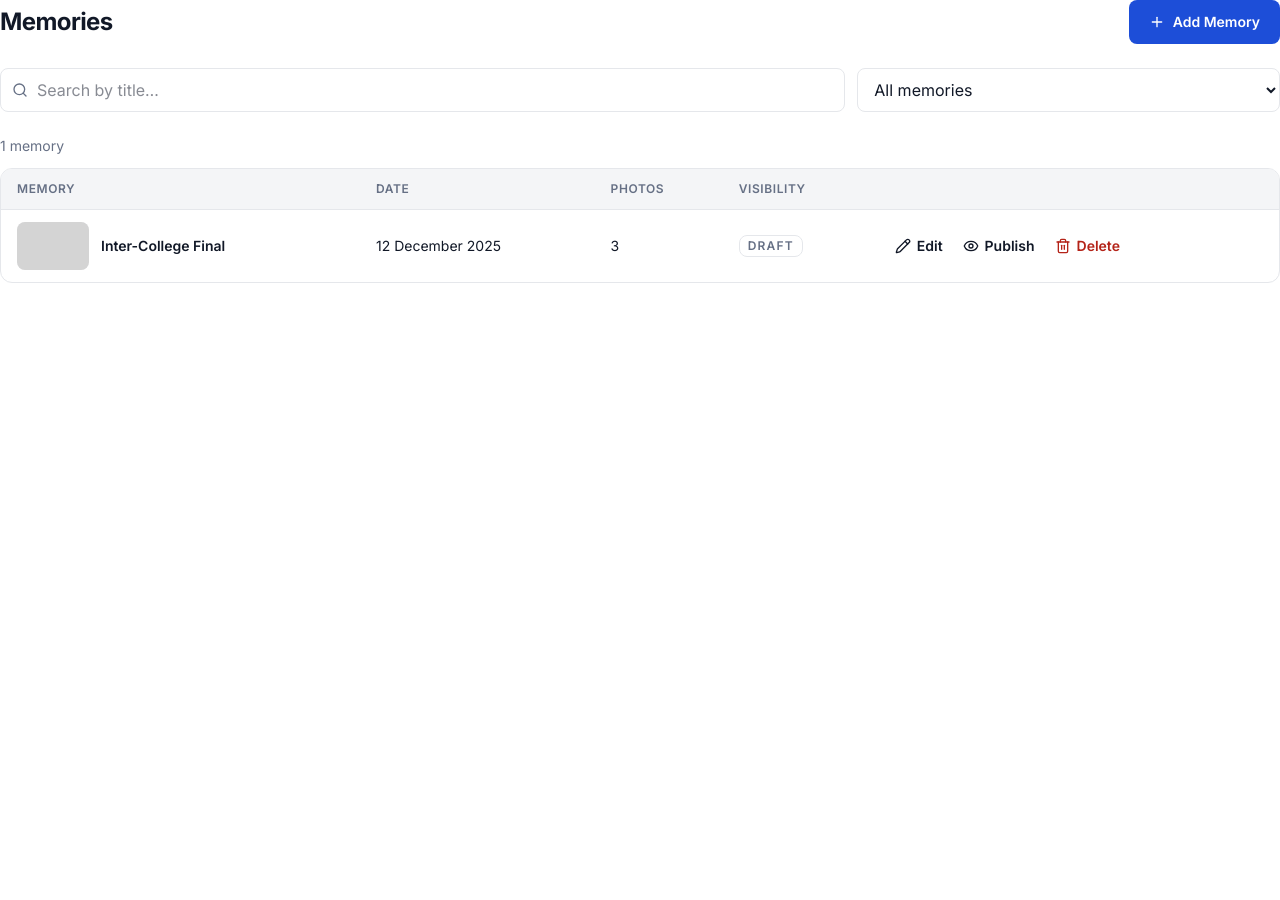
Test: AdminMemories › publishes a draft after confirmation
Click the button with aria-label "Publish Inter-College Final": (999, 246) [955, 224, 1042, 268]
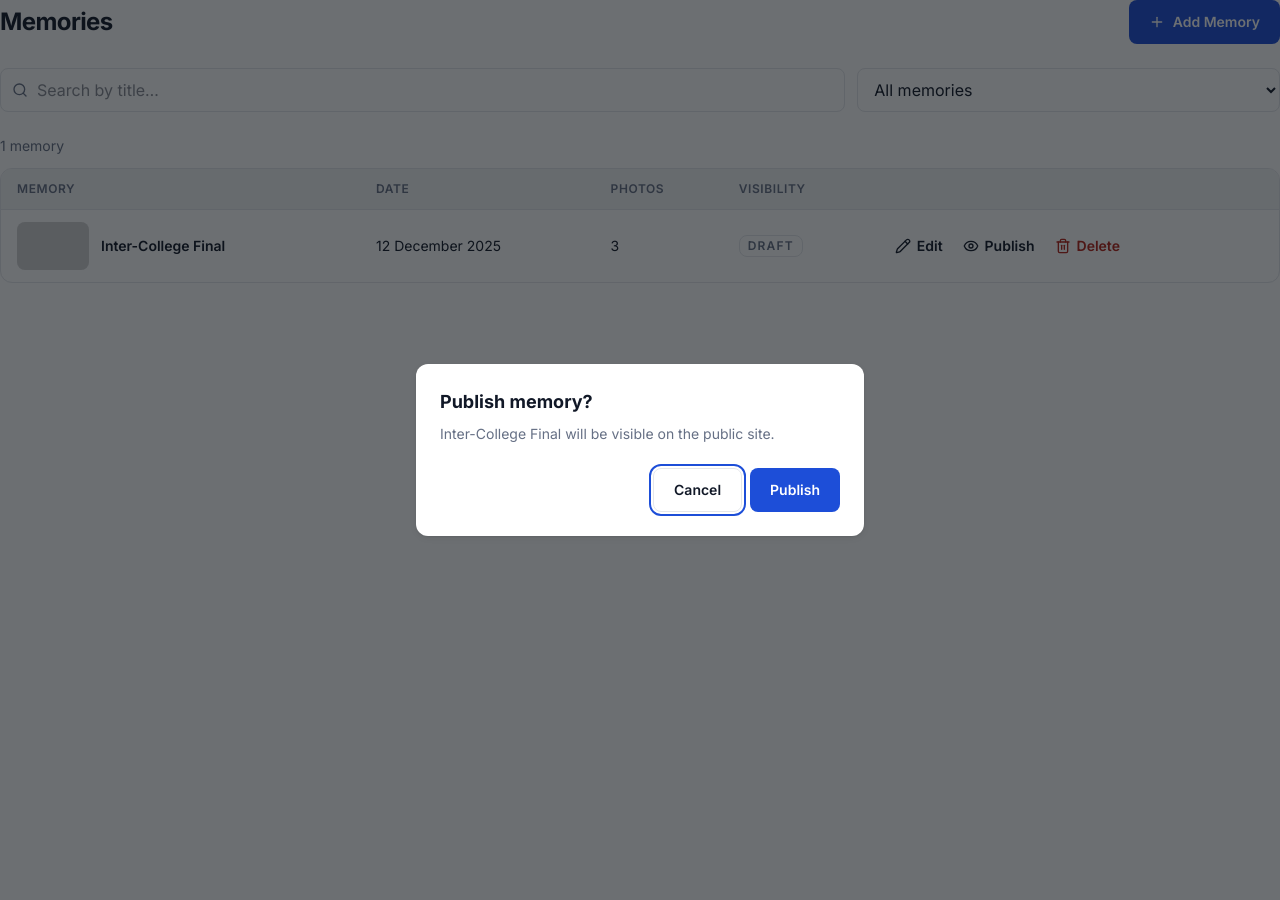
Click the button "Publish": (795, 490) [750, 468, 840, 512]
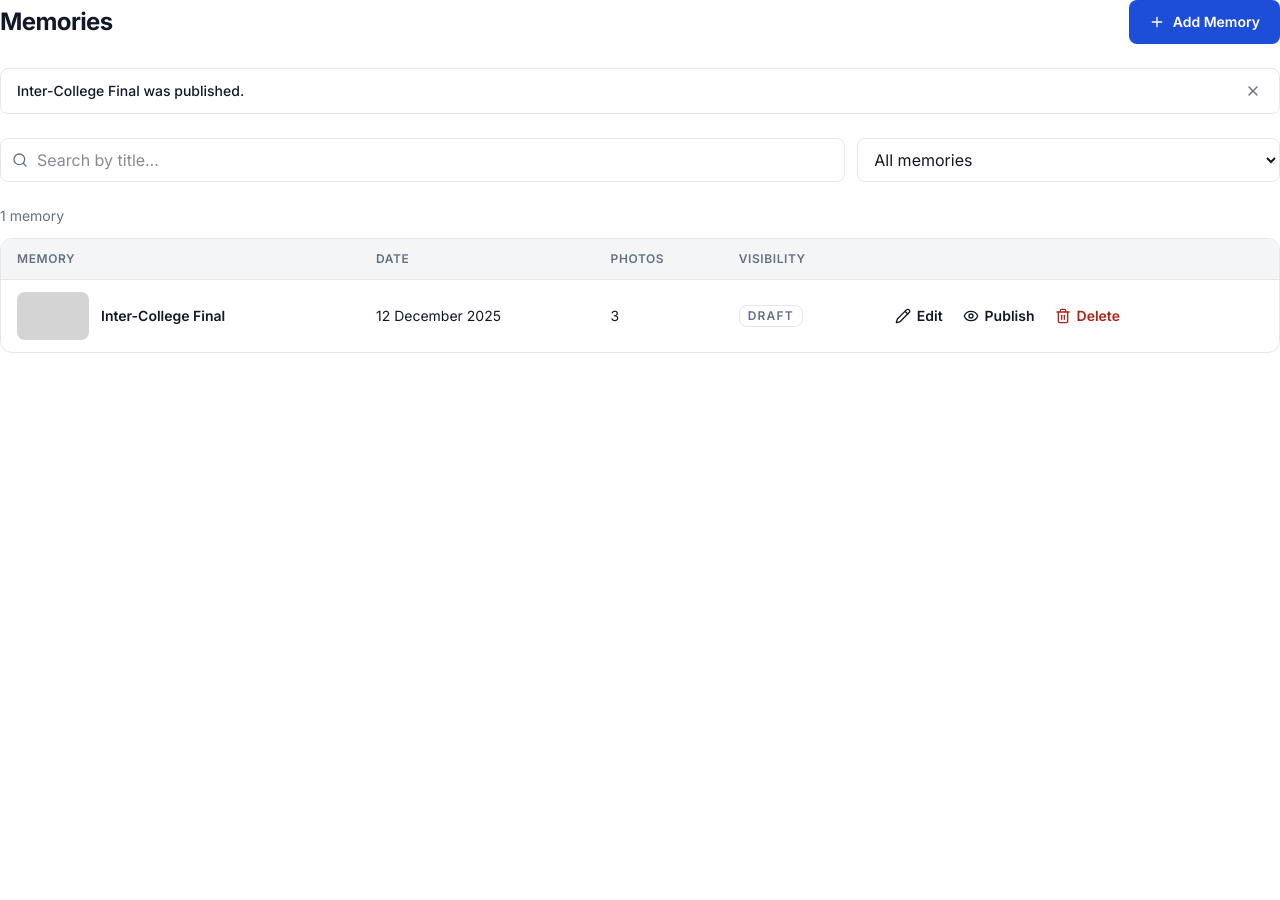
Check: the text "Inter-College Final was published." is shown, box [17, 81, 244, 101]
